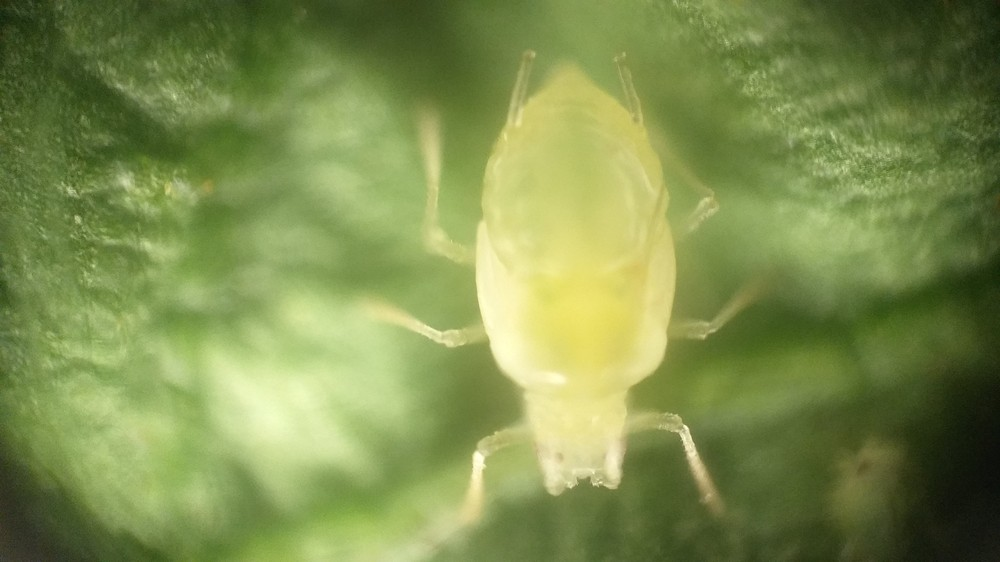Pulgon: (374, 40, 779, 541)
